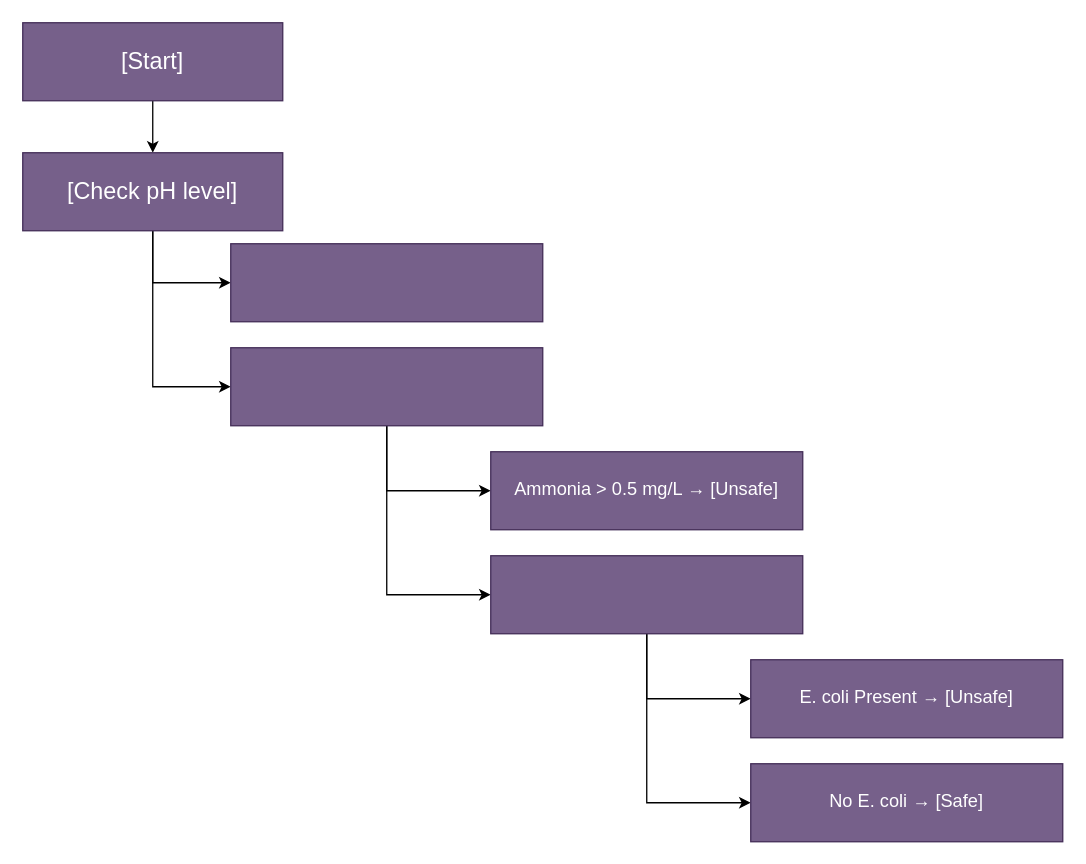
The diagram is 1086 pixels wide and 864 high, and some of its shapes have lost their labels. Each missing label, with the box of its shape:
Ammonia OK → [Check for E. coli]: (489, 554, 803, 634)
pH < 6.5 or pH > 8.5 → [Unsafe]: (229, 242, 543, 322)
pH OK → [Check Ammonia]: (229, 346, 543, 426)
